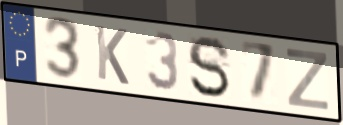3: (43, 14, 82, 83), (142, 30, 180, 94)
7: (238, 38, 278, 105)
K: (93, 22, 131, 88)
S: (185, 34, 233, 101)
Z: (284, 46, 330, 113)
